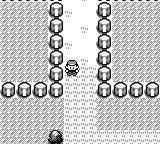main: (65, 61, 79, 76)
no-caminable: (0, 1, 64, 98), (97, 1, 159, 98), (48, 130, 64, 143)
